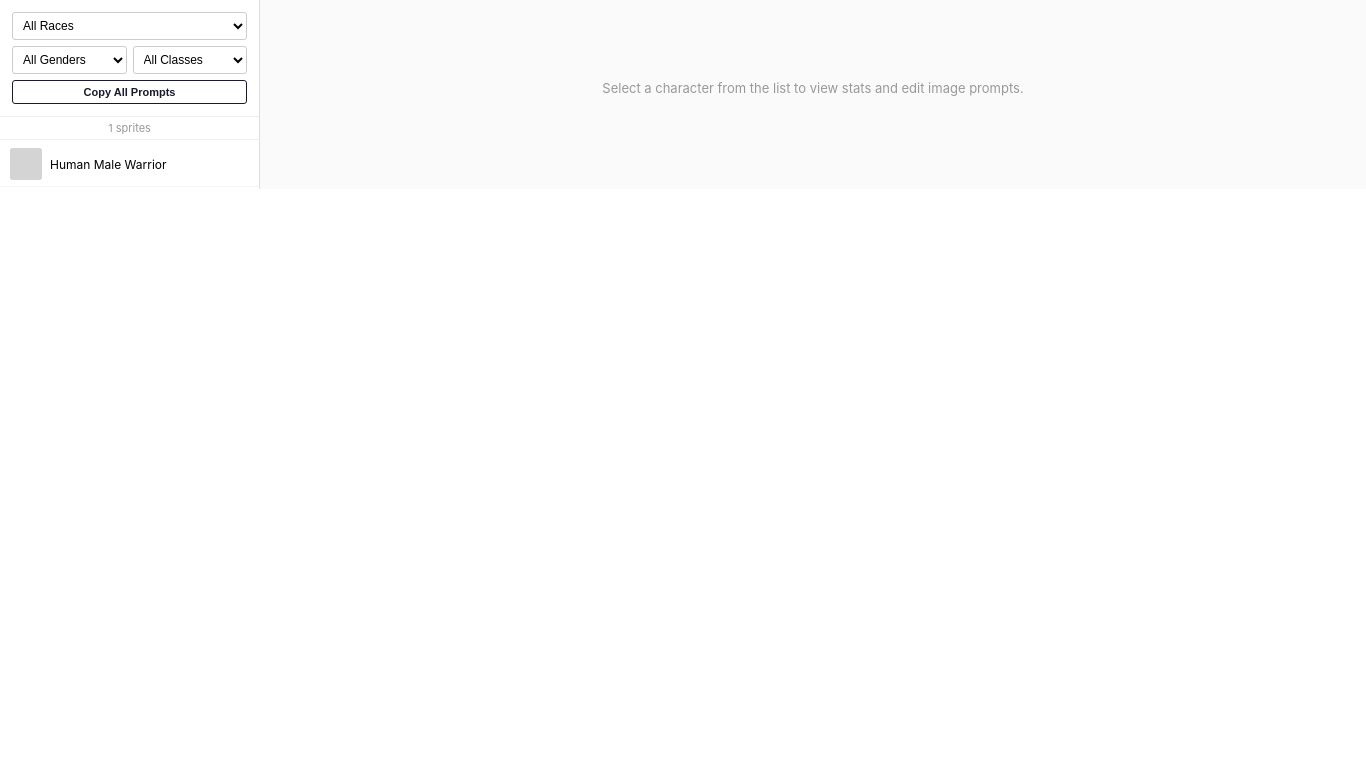
Test: PcSpriteEditor › clicking a sprite opens detail panel with large image and character stats
Expected: the text "1 sprites" is shown, [0,117,259,140]
# Click the sprite in the list
Click the text "Human Male Warrior".
click(108, 164)  # box [50,156,166,172]
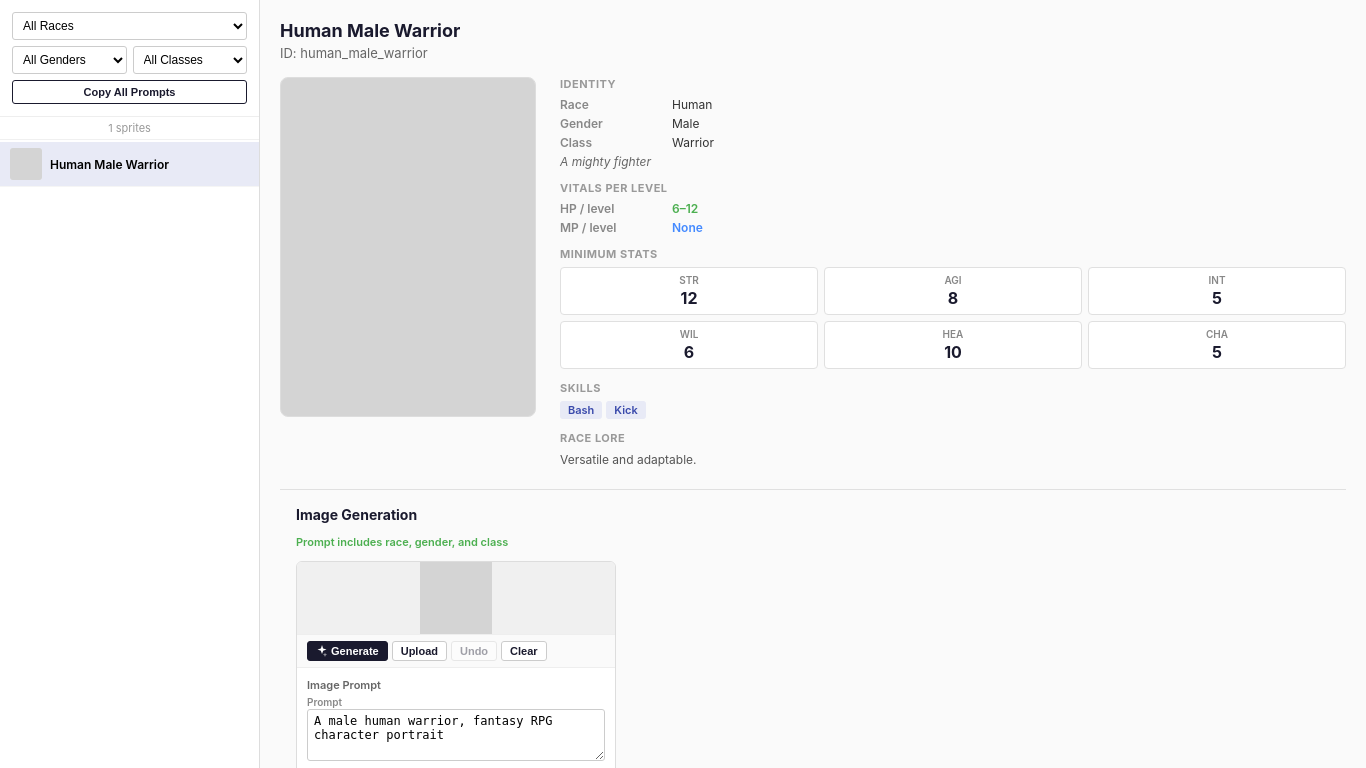
Expected: the text "ID: human_male_warrior" is shown, [280,45,428,61]
Expected: the text "Identity" is shown, [560,77,616,91]
Expected: the text "A mighty fighter" is shown, [560,154,651,169]
